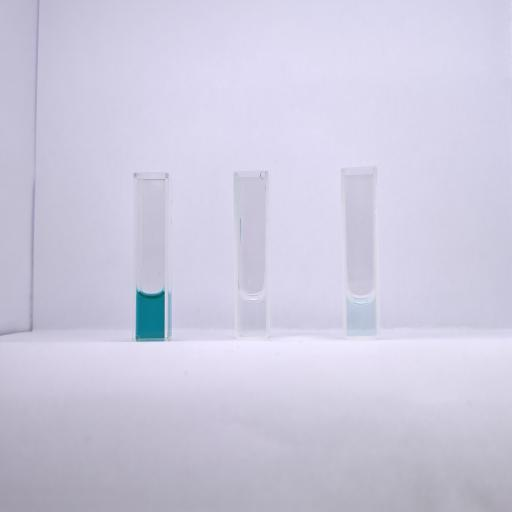cuvette: (339, 164, 381, 340), (231, 168, 271, 342), (131, 170, 171, 343)
liquid: (136, 291, 165, 338), (346, 294, 376, 335), (238, 293, 265, 336)
